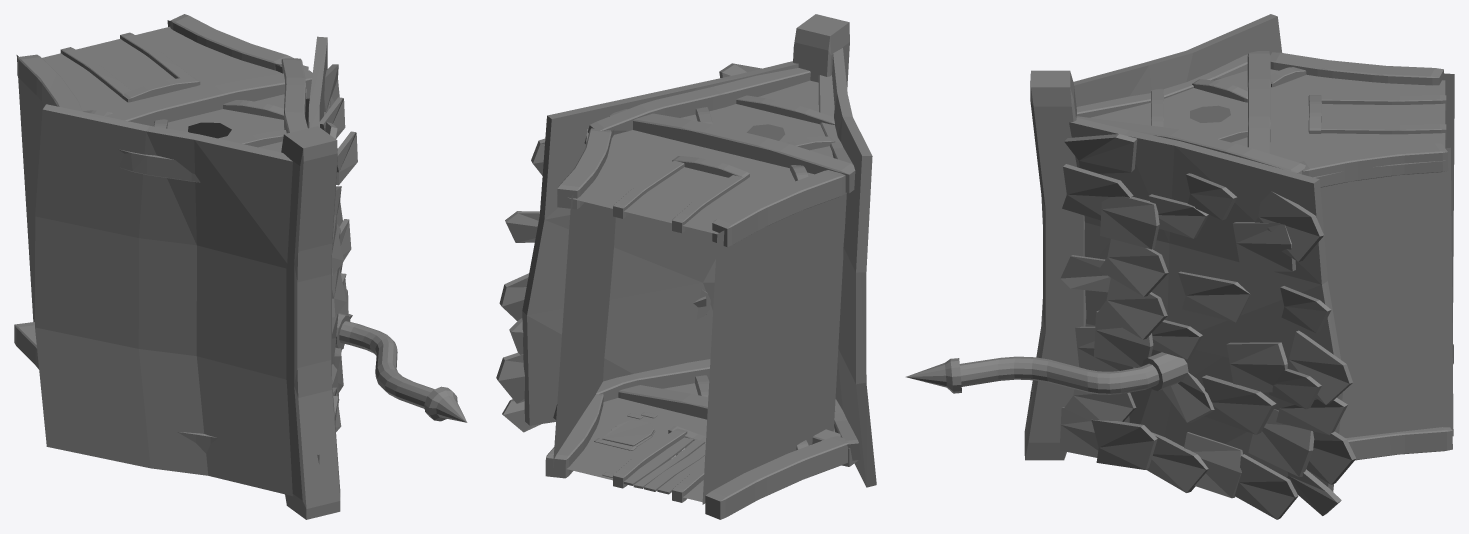
The picture shows the model from 3 angles, left to right: view 1: azimuth 30°, elevation 25°; view 2: azimuth 150°, elevation 25°; view 3: azimuth 270°, elevation 25°; orthographic projection.
Visible parts, largest first — view 1: Plane.011, Cube.579, Plane.015, Cylinder.010, Cube.569, Plane.012, Cube.568, Cube.567, Cube.570, Cube.571, Plane.013, Cube.576 (+9 smaller); view 2: Plane.012, Plane.013, Plane.015, Plane.014, Plane.011, Cube.569, Cube.555, Plane.010, Cube.570, Cube.567, Cube.579, Cube.568 (+21 smaller); view 3: Plane.014, Plane.013, Cube.579, Plane.015, Plane.011, Cylinder.010, Cube.568, Cube.567, Cube.591, Cube.618, Cube.616, Cube.593 (+34 smaller).
Part boxes in pixels (x1,y1,x2,y2): Plane.011: (35,104,293,496); Cube.579: (281,126,340,519); Plane.015: (42,26,308,152); Cylinder.010: (335,313,467,422); Cube.569: (105,70,312,126); Plane.012: (16,55,44,321); Cube.568: (170,14,293,70); Cube.567: (17,54,82,111); Cube.570: (281,58,307,133); Cube.571: (118,149,200,182); Plane.013: (307,36,327,128); Cube.576: (122,77,200,102); Plane.012: (702,192,846,504); Plane.013: (522,61,798,425); Plane.015: (568,80,833,234); Plane.014: (553,129,615,468); Plane.011: (832,48,876,487); Cube.569: (609,109,855,193); Cube.555: (705,436,849,519); Plane.010: (567,383,834,502); Cube.570: (584,68,810,144); Cube.567: (712,170,845,246); Cube.579: (793,14,849,87); Cube.568: (557,128,611,209); Plane.014: (1320,147,1453,437); Plane.013: (1069,117,1342,491); Cube.579: (1024,70,1086,460); Plane.015: (1090,69,1445,177); Plane.011: (1073,14,1282,122); Cylinder.010: (906,352,1188,394); Cube.568: (1299,143,1448,187); Cube.567: (1270,52,1443,85); Cube.591: (1202,375,1276,434); Cube.618: (1232,222,1295,271); Cube.616: (1100,196,1159,249); Cube.593: (1248,409,1314,477).
Bounding box in the file's own units: 5.47 × 5.63 × 7.52.
Materials: 1 (1 with a texture image).
